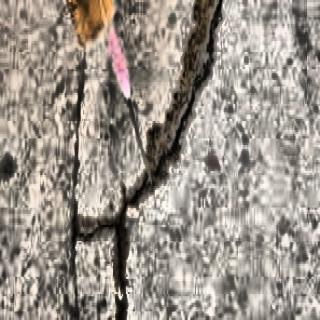crack: (70, 2, 225, 243), (71, 44, 88, 250)
